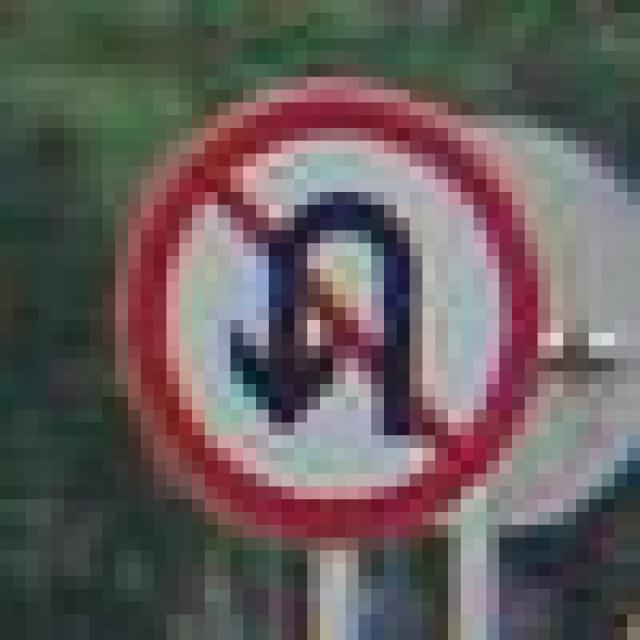u turn prohibited: (112, 63, 548, 557)
